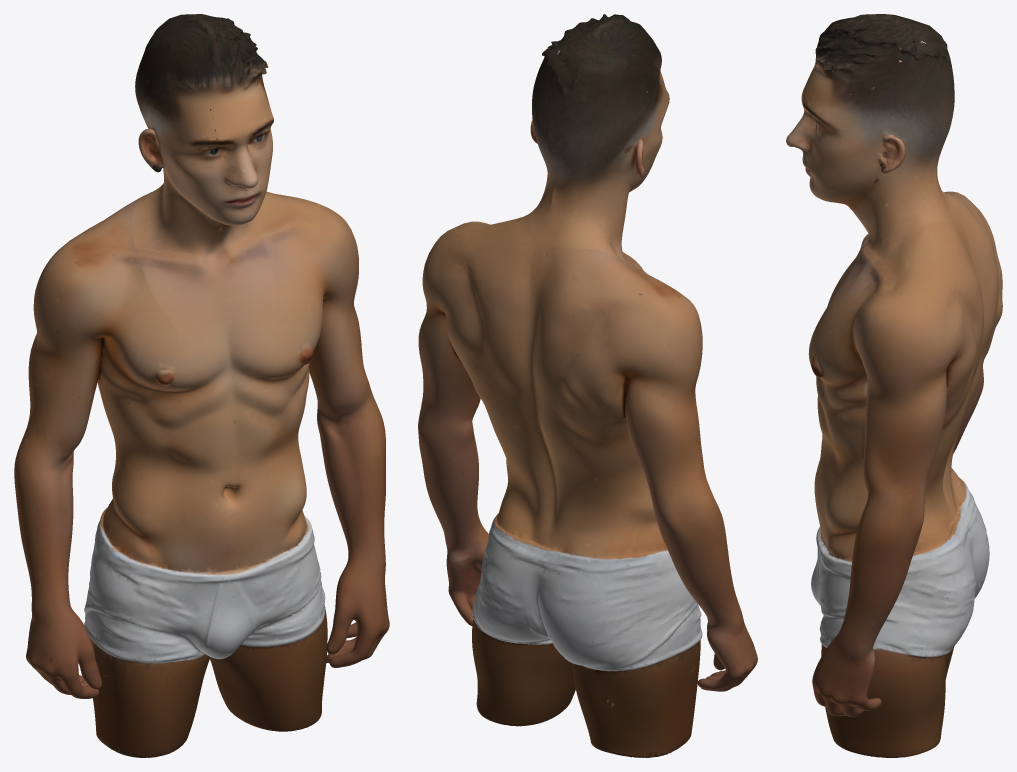
The model's file is MENU_3D BOY.glb.
The picture shows the model from 3 angles, left to right: view 1: azimuth 30°, elevation 25°; view 2: azimuth 150°, elevation 25°; view 3: azimuth 270°, elevation 25°; orthographic projection. The views are drawn at different scales.
Visible parts, largest first — view 1: Boy_main_menu; view 2: Boy_main_menu; view 3: Boy_main_menu.
Boxes of the visible parts, x1,y1,x2,y2 form: Boy_main_menu: [14, 14, 389, 757]; Boy_main_menu: [418, 14, 757, 757]; Boy_main_menu: [786, 14, 1002, 757].
Size of the model in its own units: 0.5056 by 1 by 0.2848.
Materials: 1 (1 with a texture image).
